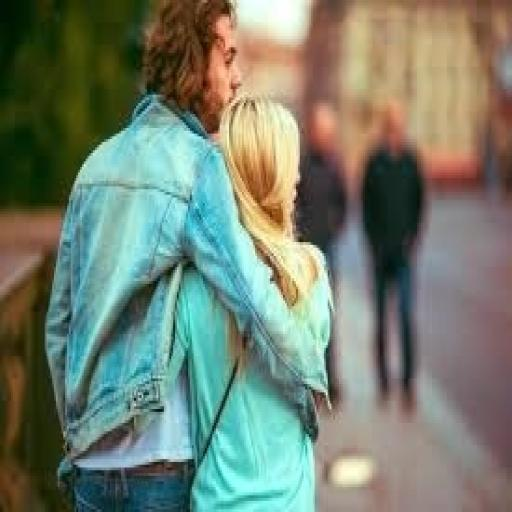hugging: (43, 0, 337, 509)
